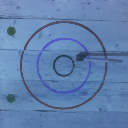Axe Tip: (76, 55, 87, 57)
